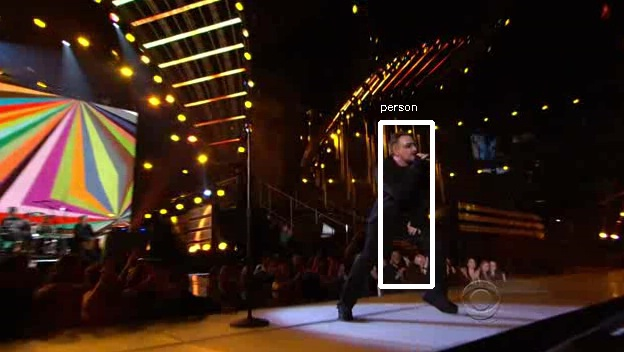person: (368, 134, 439, 262), (365, 134, 436, 262), (371, 134, 442, 262), (368, 131, 439, 259), (368, 137, 439, 265)
target_negative: (260, 36, 462, 247), (464, 227, 548, 314), (111, 291, 173, 342), (349, 318, 605, 329), (530, 17, 546, 139), (208, 293, 224, 328)
